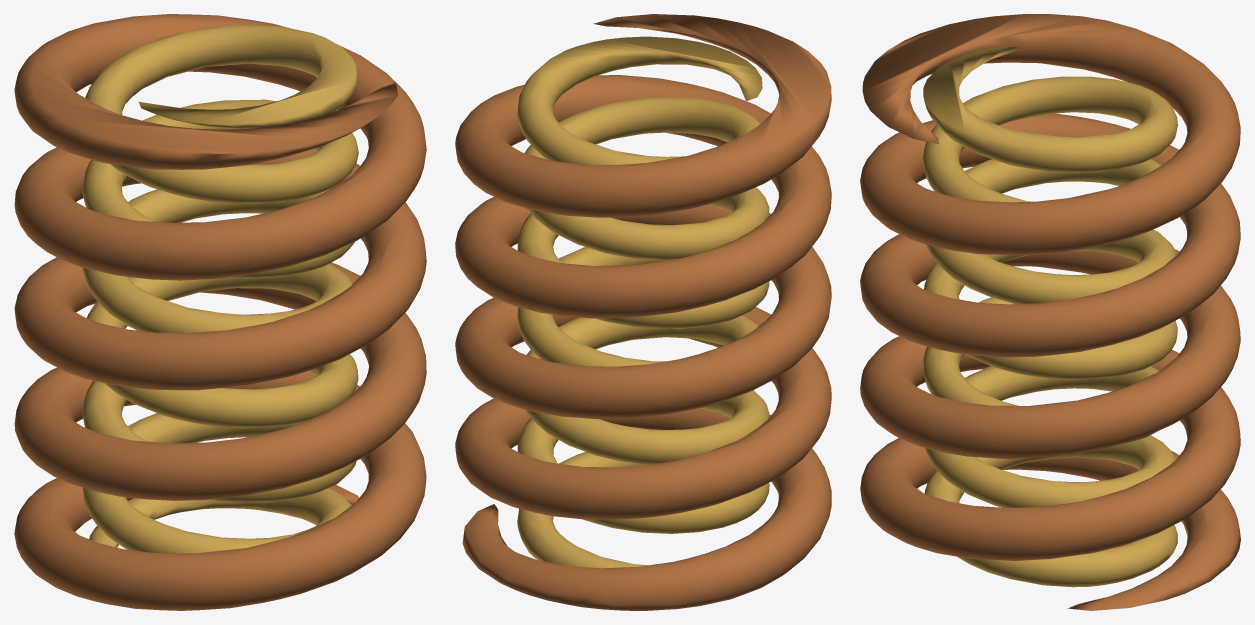
The model's file is spring_set_18100.glb.
3 views of the same model, side by side, from view 1: azimuth 30°, elevation 25°; view 2: azimuth 150°, elevation 25°; view 3: azimuth 270°, elevation 25° (orthographic). The views are drawn at different scales.
Parts seen in each view (by area): view 1: Пружина_наружная_18-100, Пружина_внутренняя_18-100; view 2: Пружина_наружная_18-100, Пружина_внутренняя_18-100; view 3: Пружина_наружная_18-100, Пружина_внутренняя_18-100.
Boxes of the visible parts, x1,y1,x2,y2 form: Пружина_наружная_18-100: (14,14,426,610); Пружина_внутренняя_18-100: (82,24,358,553); Пружина_наружная_18-100: (455,14,831,610); Пружина_внутренняя_18-100: (517,36,769,568); Пружина_наружная_18-100: (860,14,1240,610); Пружина_внутренняя_18-100: (922,46,1177,587).
Bounding box in the file's own units: 0.2001 × 0.259 × 0.2001.
